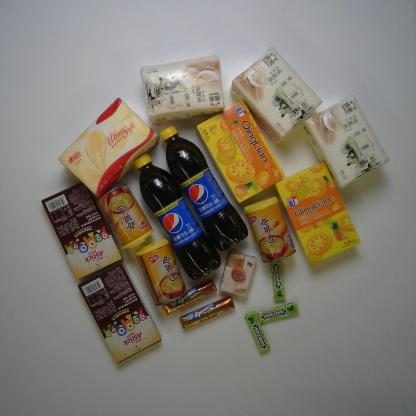Candy: (162, 278, 220, 315), (180, 296, 238, 330)
Canned Food: (92, 182, 153, 251), (134, 237, 188, 307), (242, 194, 296, 264)
Dessert: (196, 98, 286, 206), (272, 161, 362, 264), (77, 258, 162, 365), (40, 180, 124, 280)
Drink: (130, 149, 222, 282), (158, 120, 249, 252)
Gum: (244, 309, 271, 356), (256, 300, 300, 325), (270, 258, 286, 304)
Tissue: (57, 97, 161, 200), (228, 44, 322, 145), (301, 93, 390, 192), (141, 54, 224, 125), (218, 250, 256, 300)
